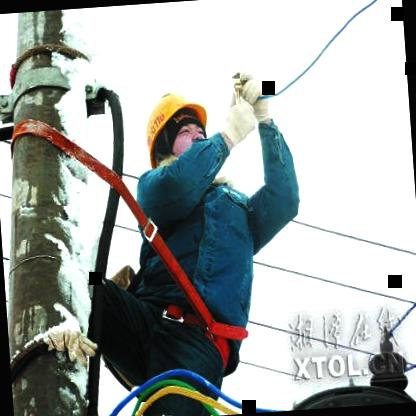helmet: (138, 76, 221, 176)
